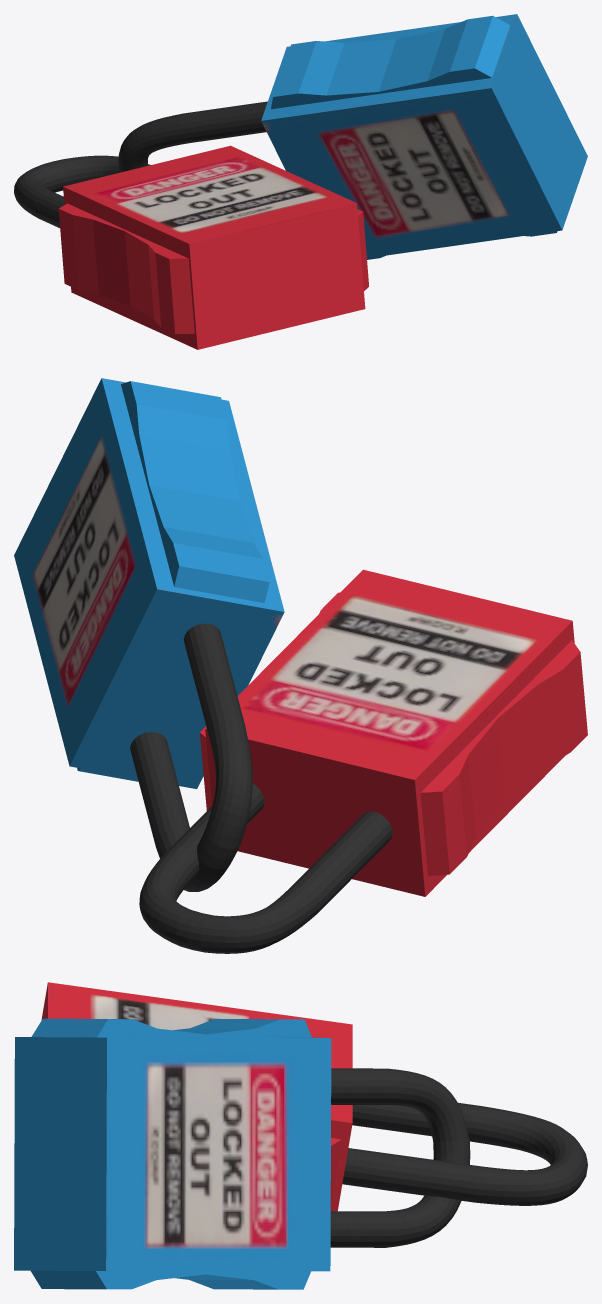
Rendered from Pad_Lock.fbx.
The picture shows the model from 3 angles, top to bottom: view 1: azimuth 30°, elevation 25°; view 2: azimuth 150°, elevation 25°; view 3: azimuth 270°, elevation 25°; orthographic projection. The views are drawn at different scales.
Parts seen in each view (by area): view 1: Pannel_008; view 2: Pannel_008; view 3: Pannel_008.
Boxes of the visible parts, x1,y1,x2,y2 form: Pannel_008: [14, 14, 587, 349]; Pannel_008: [14, 378, 587, 953]; Pannel_008: [14, 982, 587, 1289].
Size of the model in its own units: 4294 by 2501 by 4058.
